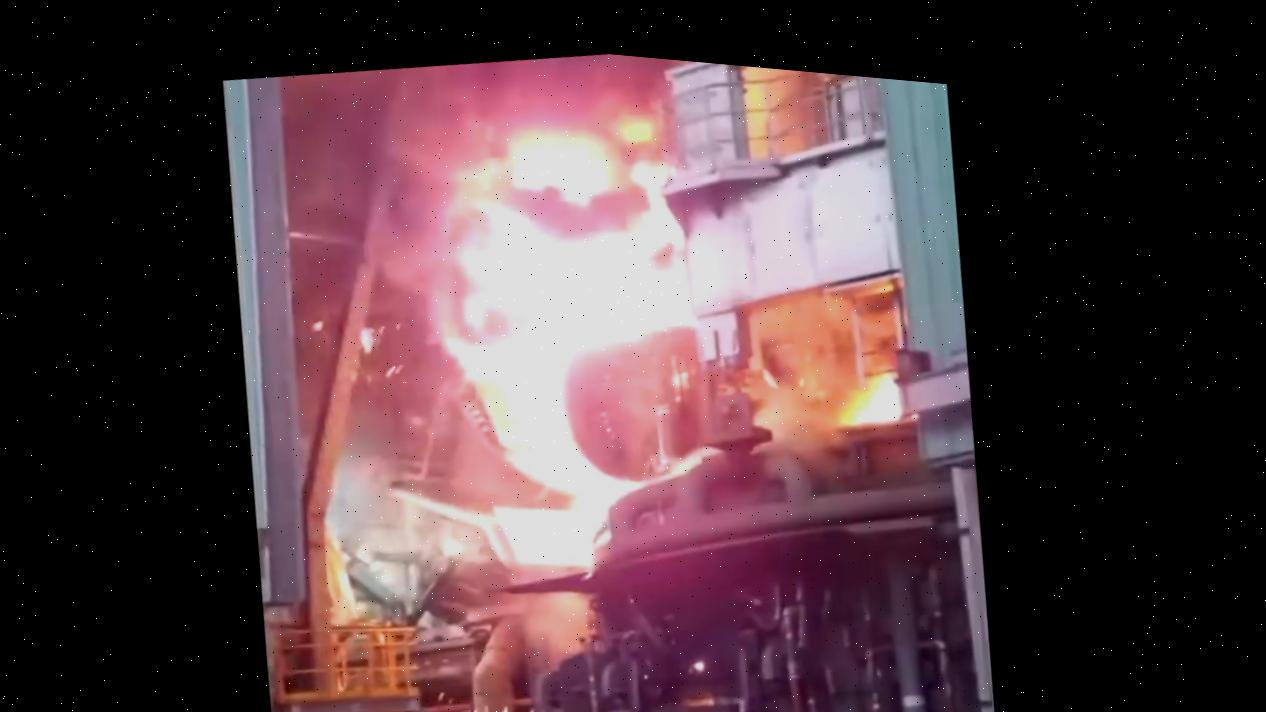fire: (278, 62, 951, 641)
